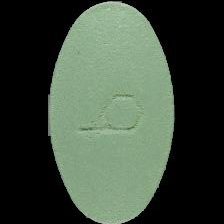51285-366: (0, 0, 224, 224)
